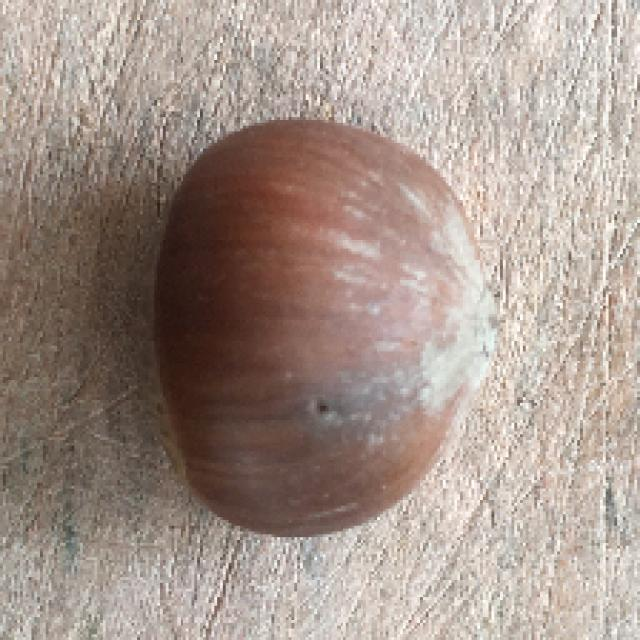qualityHazelnut: (149, 112, 496, 540)
